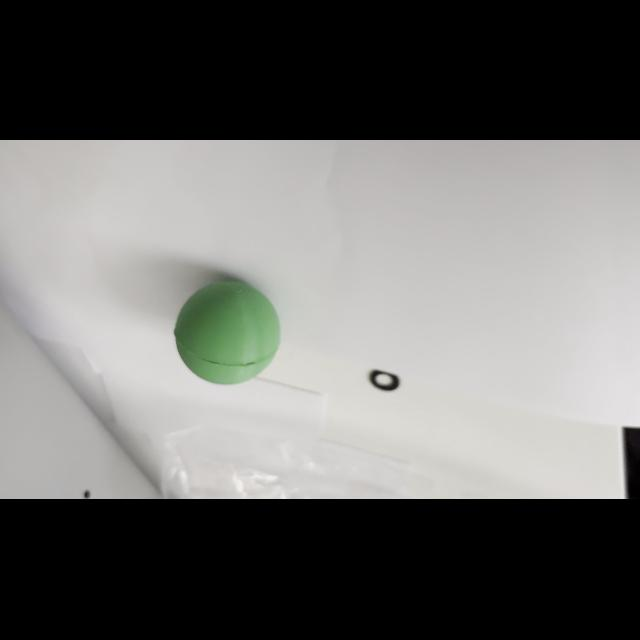objects: (170, 274, 282, 388)
